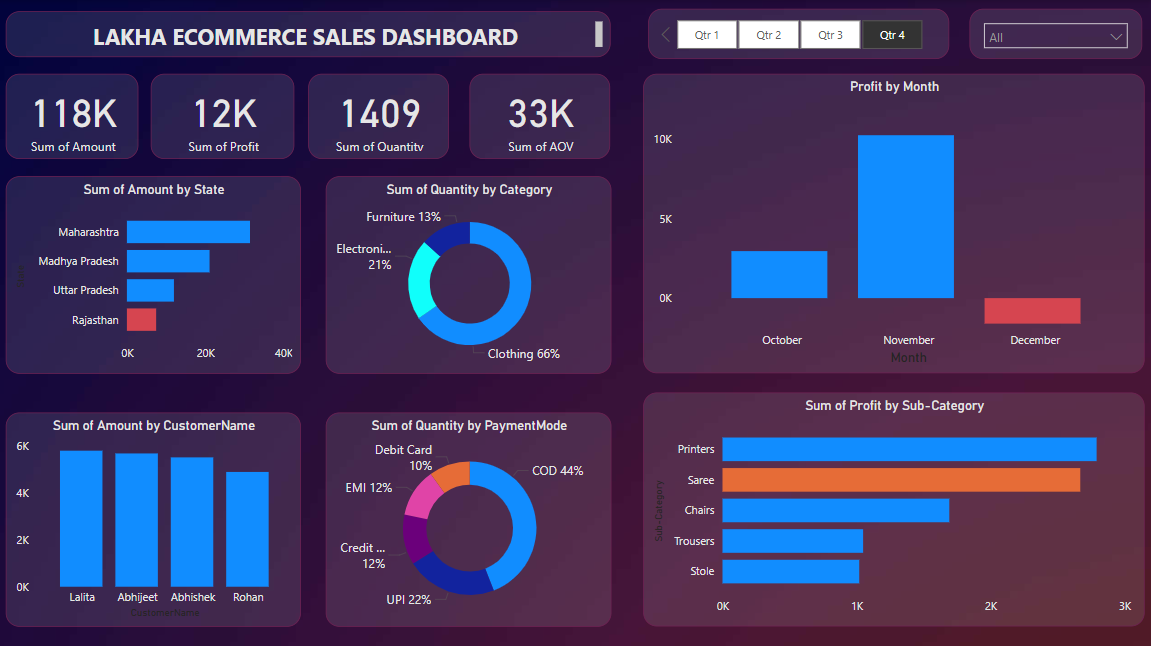

This screenshot's page, from the dashboard's own definition file:
{"tool":"powerbi","page":{"name":"Page 1","canvas":[1280,720],"ordinal":0},"visuals":[{"type":"textbox","box":[39.8,30.2,617.5,61.7],"z":0},{"type":"columnChart","title":"Profit by Month","fields":{"Category":["Orders.Order Date.Variation.Date Hierarchy.Month"],"Y":["Sum(Details.Profit)"]},"box":[677.9,115.3,581.8,289.5],"z":1000},{"type":"barChart","fields":{"Category":["Details.Sub-Category"],"Y":["Sum(Details.Profit)"]},"box":[677.9,435,581.8,259.3],"z":2000},{"type":"donutChart","fields":{"Category":["Details.Category"],"Y":["Sum(Details.Quantity)"]},"box":[347.2,241.5,310.1,220.9],"z":3000},{"type":"donutChart","fields":{"Y":["Sum(Details.Quantity)"],"Category":["Details.PaymentMode"]},"box":[347.2,474.8,310.1,220.9],"z":4000},{"type":"card","fields":{"Values":["Sum(Details.Amount)"]},"box":[39.8,115.3,135.8,101.5],"z":5000},{"type":"card","fields":{"Values":["Sum(Details.Quantity)"]},"box":[366.4,115.3,135.8,101.5],"z":6000},{"type":"card","fields":{"Values":["Sum(Details.Profit)"]},"box":[211.3,115.3,135.8,101.5],"z":7000},{"type":"card","fields":{"Values":["Sum(Details.AOV)"]},"box":[521.4,115.3,135.8,101.5],"z":8000},{"type":"barChart","fields":{"Category":["Orders.State"],"Y":["Sum(Details.Amount)"]},"box":[35.7,241.5,279.9,211.3],"z":9000},{"type":"columnChart","fields":{"Category":["Orders.CustomerName"],"Y":["Sum(Details.Amount)"]},"box":[35.7,474.8,279.9,220.9],"z":10000},{"type":"slicer","fields":{"Values":["Orders.Order Date.Variation.Date Hierarchy.Quarter"]},"box":[704.3,31.6,325.2,60.4],"z":11000},{"type":"slicer","fields":{"Values":["Orders.State"]},"box":[1063.8,31.6,161.9,60.4],"z":12000}]}

Visuals, with their boxes in screenshot pixels (x1, y1, x2, y2), scaled from the page's 1280x720 canvas onto the 1151x646 screenshot:
textbox: locate(36, 27, 591, 82)
"Profit by Month" columnChart: locate(610, 103, 1133, 363)
barChart - Details.Sub-Category x Sum(Details.Profit): locate(610, 390, 1133, 623)
donutChart - Details.Category x Sum(Details.Quantity): locate(312, 217, 591, 415)
donutChart - Sum(Details.Quantity) x Details.PaymentMode: locate(312, 426, 591, 624)
card - Sum(Details.Amount): locate(36, 103, 158, 195)
card - Sum(Details.Quantity): locate(329, 103, 452, 195)
card - Sum(Details.Profit): locate(190, 103, 312, 195)
card - Sum(Details.AOV): locate(469, 103, 591, 195)
barChart - Orders.State x Sum(Details.Amount): locate(32, 217, 284, 406)
columnChart - Orders.CustomerName x Sum(Details.Amount): locate(32, 426, 284, 624)
slicer - Orders.Order Date.Variation.Date Hierarchy.Quarter: locate(633, 28, 926, 83)
slicer - Orders.State: locate(957, 28, 1102, 83)
